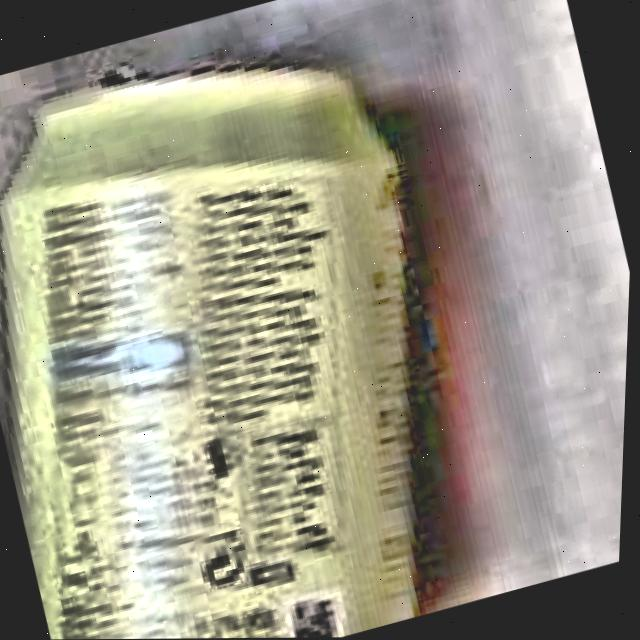metal: (0, 53, 427, 640)
